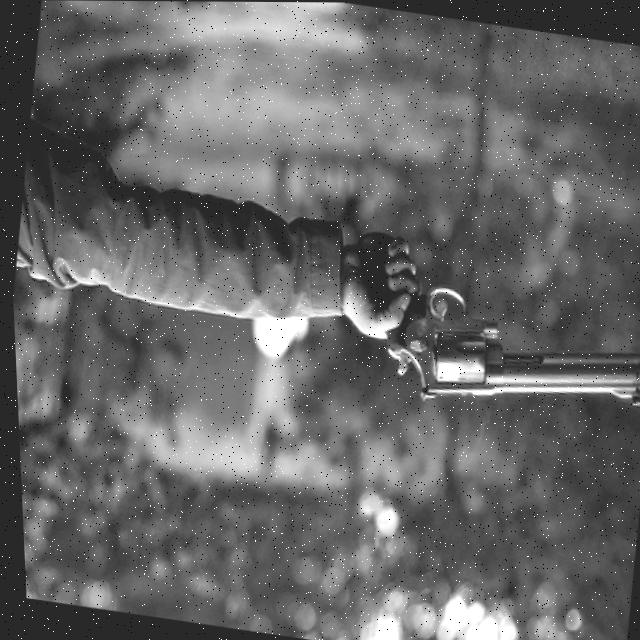pistol: (372, 276, 640, 440)
